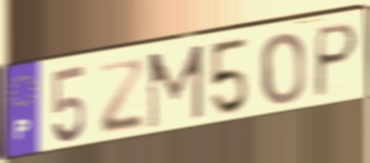5: (207, 34, 251, 118), (50, 63, 86, 145)
M: (145, 41, 206, 133)
O: (259, 30, 307, 108)
P: (311, 20, 362, 101)
Z: (97, 57, 146, 137)
